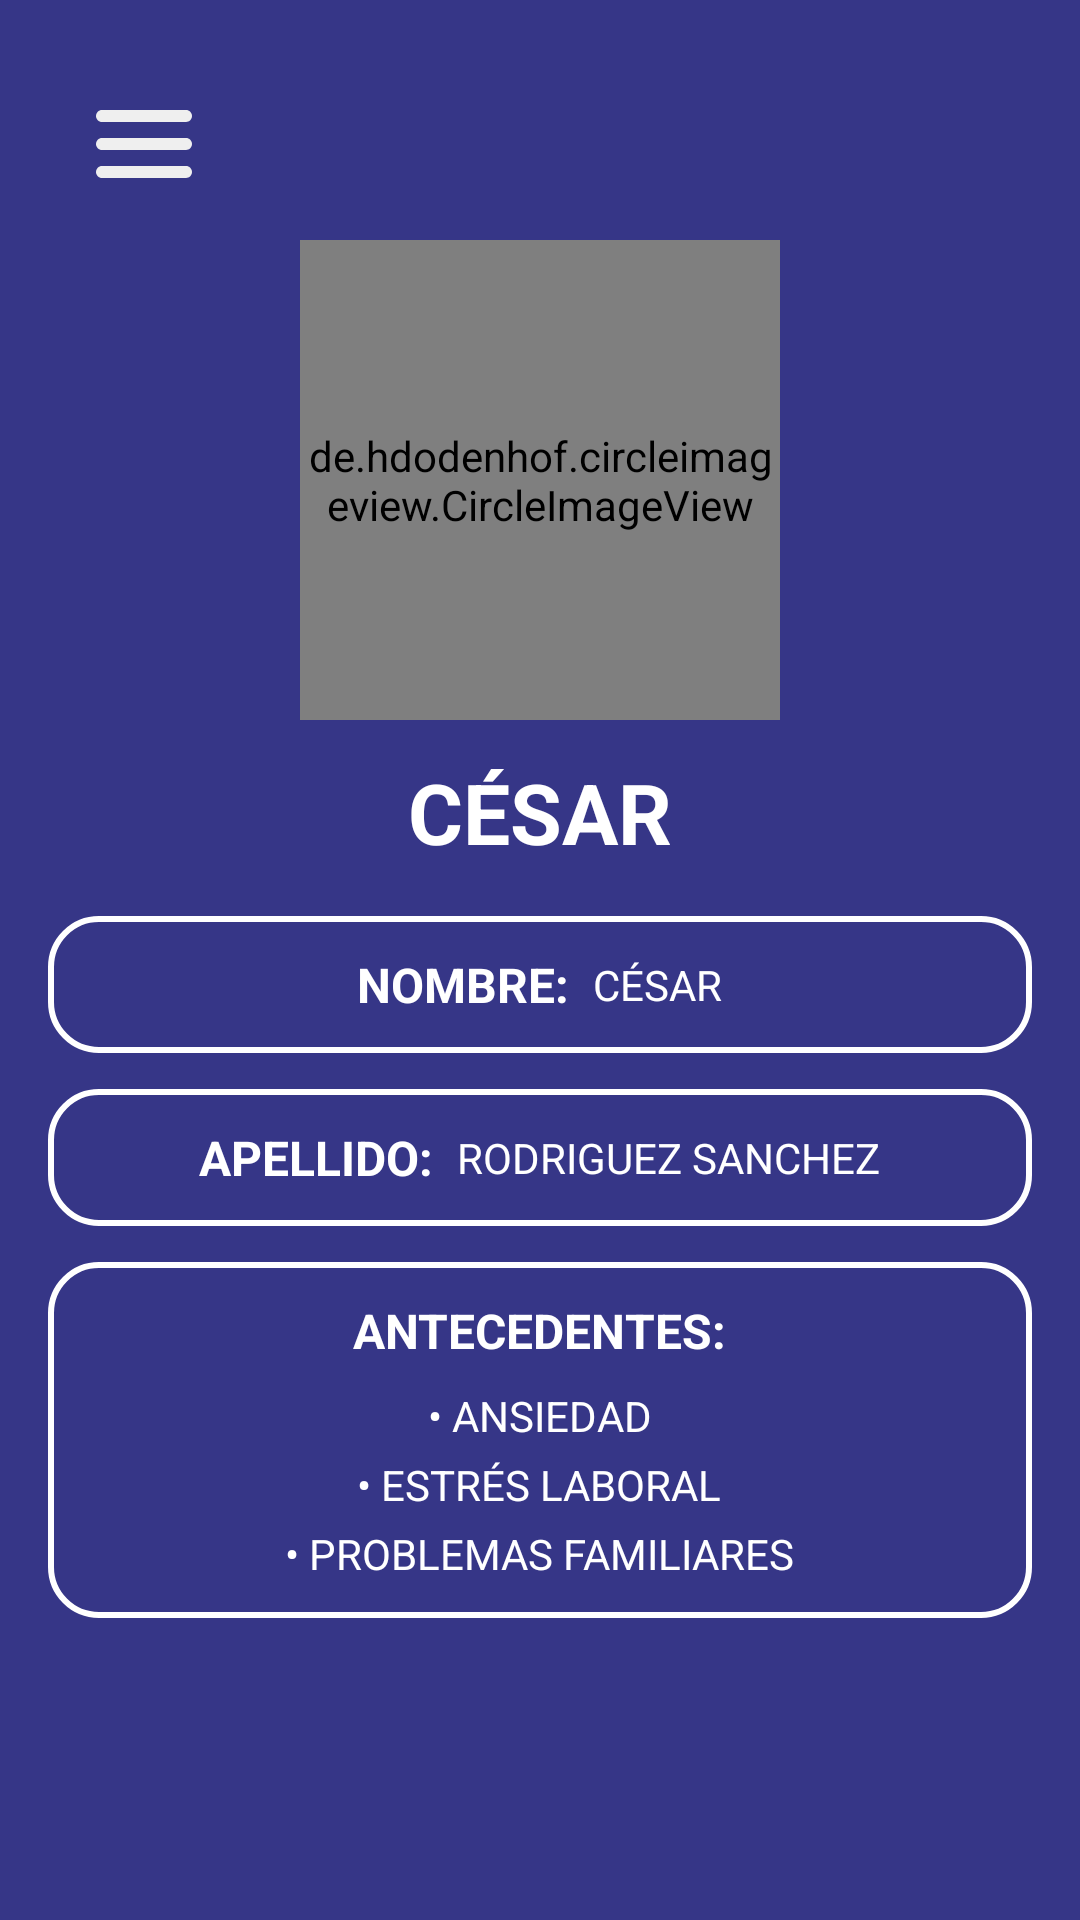

Screen size 1080×1920. Icon name, then its box in pixels as (x1=x1, y1=y1, x2=x2, y2=y2):
burger: (x1=96, y1=110, x2=192, y2=178)
